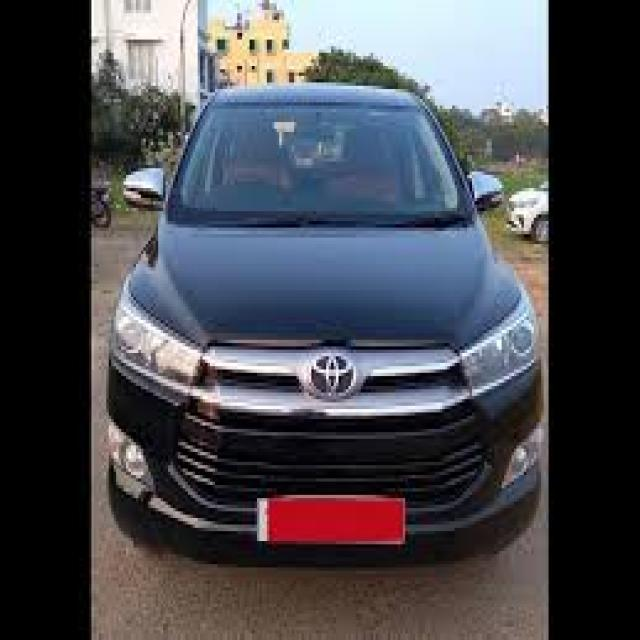Car: (107, 85, 543, 550)
